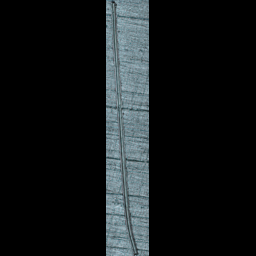d: (110, 0, 141, 255)
